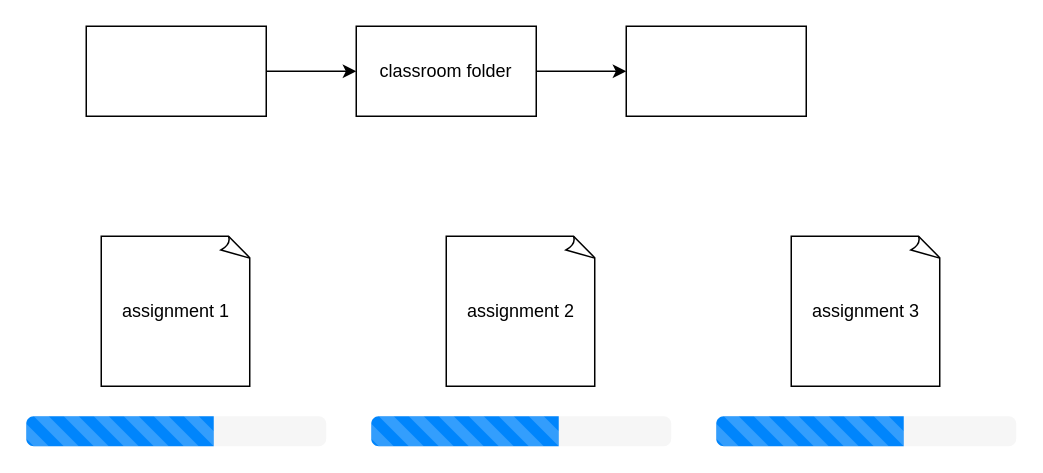
This 1043x473 diagram has some shape labels left out. Here are the shapes that lost their labels. From the top down, the box of each, then its label:
(85, 25, 266, 116): root folder
(625, 25, 806, 116): assignments folder
